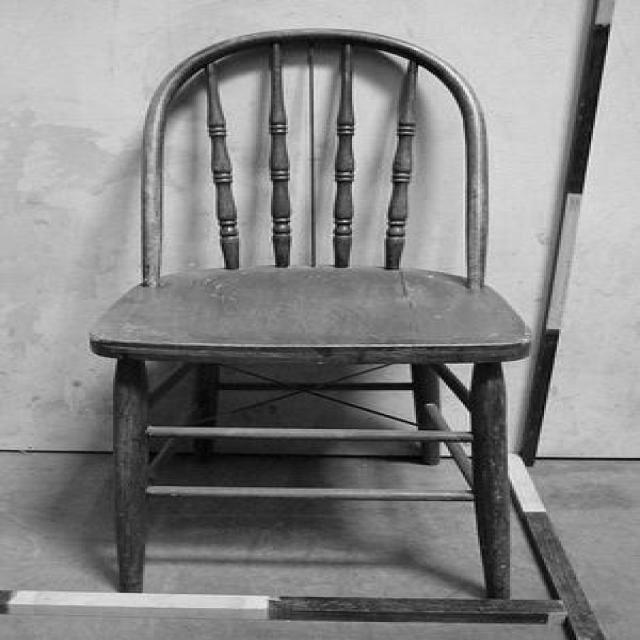chair: (86, 28, 531, 602)
